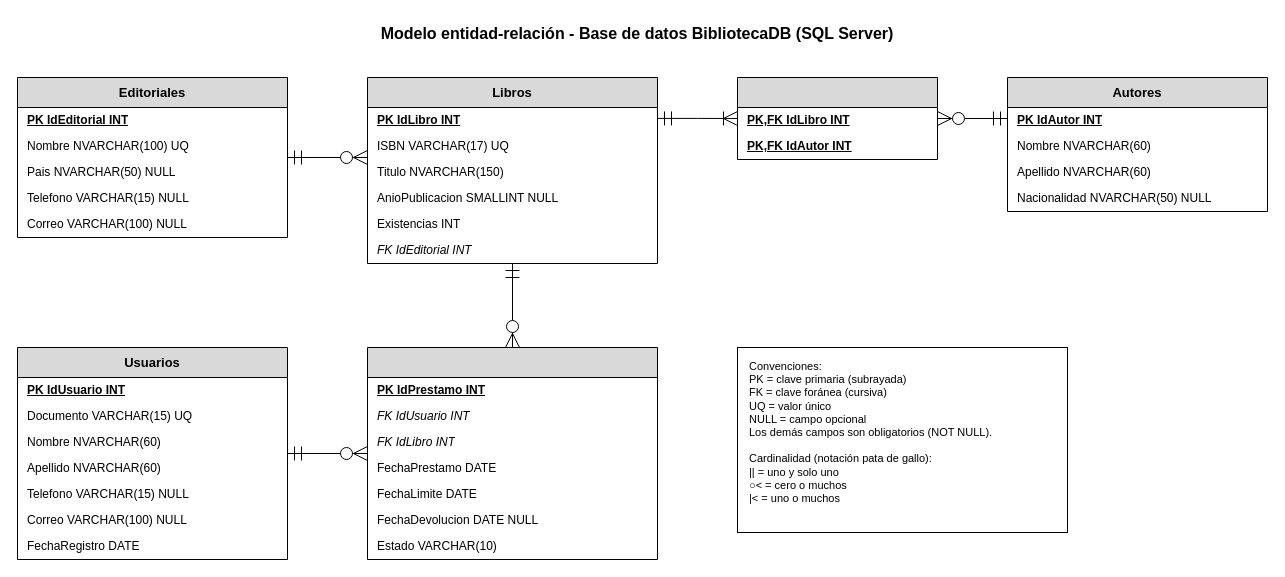
This 1285x577 diagram has some shape labels left out. Each missing label, with the box of its shape:
LibroAutor: (736, 76, 938, 160)
Prestamos: (366, 346, 658, 560)
